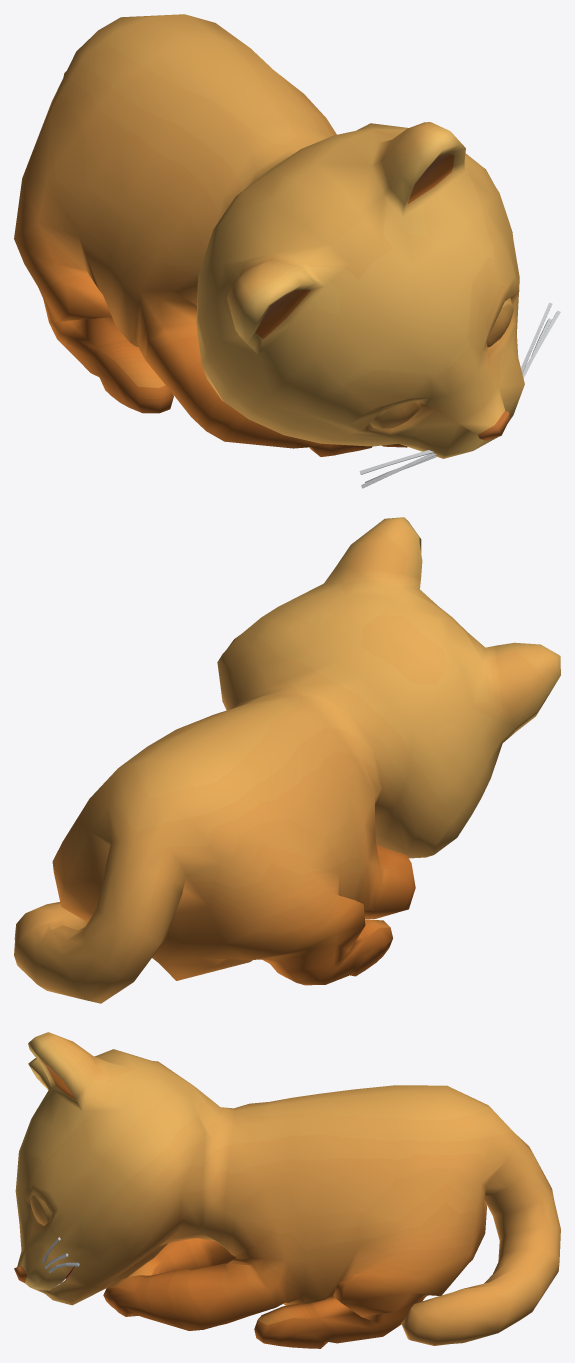
File: Gato Dormindo.fbx
3 renders of one model, top to bottom at view 1: azimuth 30°, elevation 25°; view 2: azimuth 150°, elevation 25°; view 3: azimuth 270°, elevation 25°, orthographic. The views are drawn at different scales.
Parts seen in each view (by area): view 1: Cat; view 2: Cat; view 3: Cat.
Part boxes in pixels (x1,y1,x2,y2): Cat: [14, 14, 560, 488]; Cat: [14, 517, 560, 1003]; Cat: [14, 1032, 560, 1348].
Size of the model in its own units: 17.84 by 17.54 by 32.02.
